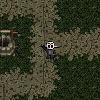Hide: (0, 19, 28, 71)
Jason: (40, 40, 58, 59)
